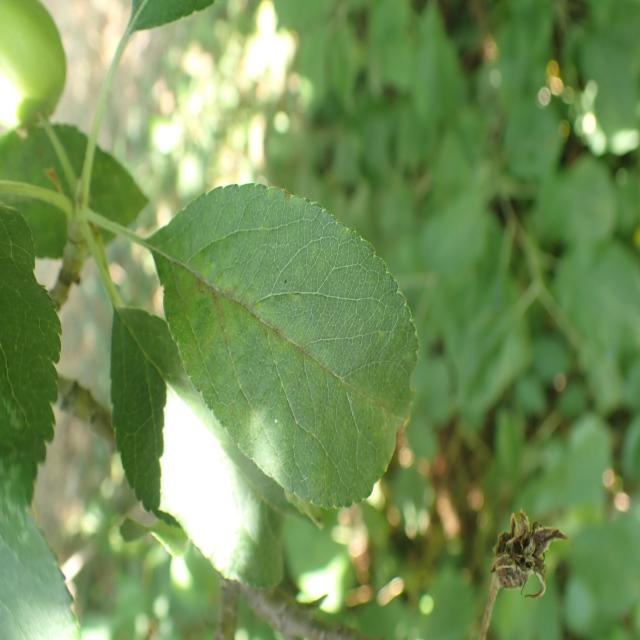scab: (160, 222, 408, 454)
